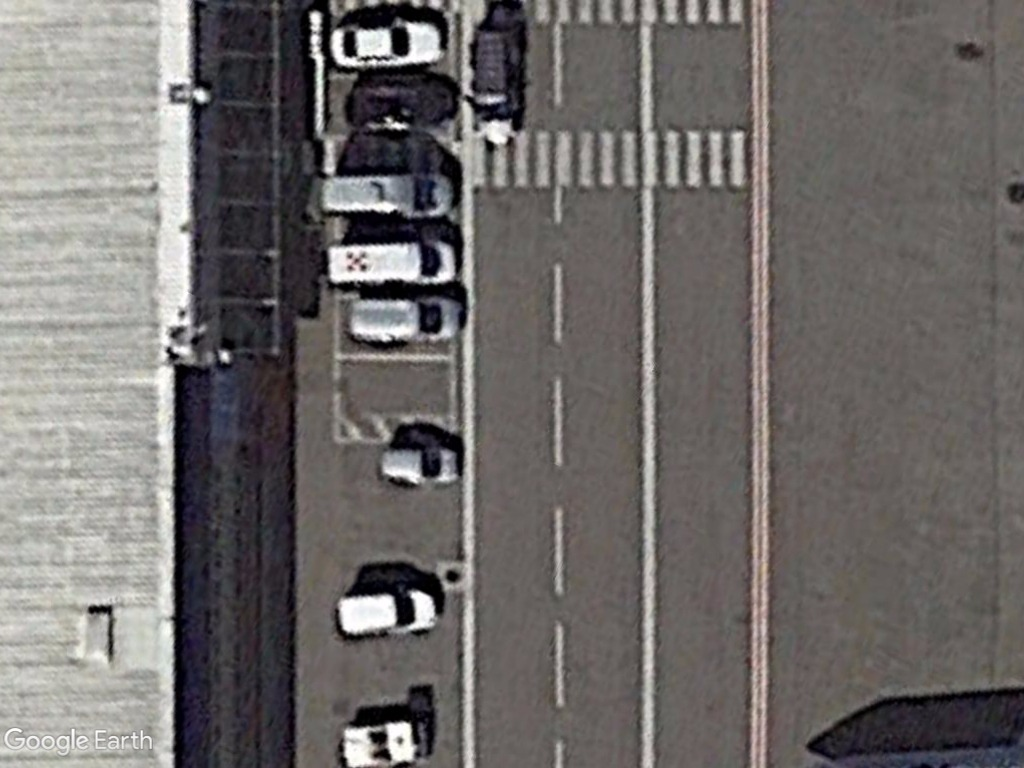car: (328, 15, 449, 73)
other: (470, 25, 527, 149)
van: (317, 172, 463, 223), (323, 237, 463, 289), (344, 294, 470, 346), (332, 584, 439, 640), (375, 444, 465, 489)
